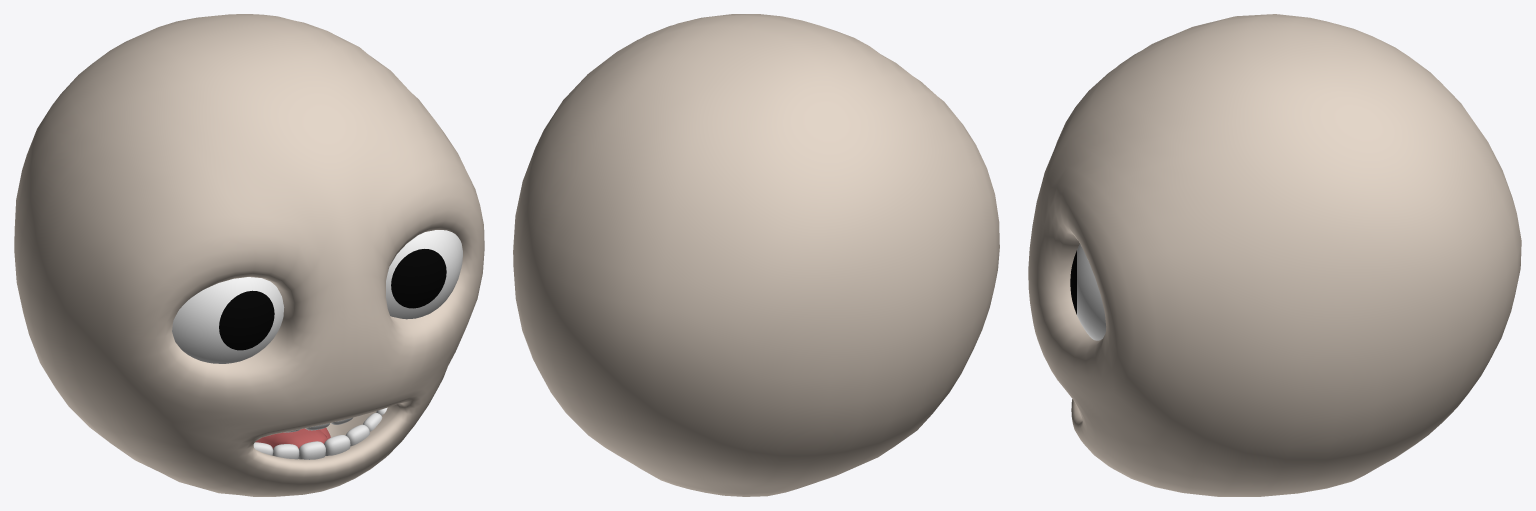
Rendered from PlayerAvatar.fbx.
3 renders of one model, left to right at view 1: azimuth 30°, elevation 25°; view 2: azimuth 150°, elevation 25°; view 3: azimuth 270°, elevation 25°, orthographic. The views are drawn at different scales.
Visible parts, largest first — view 1: MTI_littlefella, eyes, teeth; view 2: MTI_littlefella; view 3: MTI_littlefella, eyes.
Part boxes in pixels (bbox=[...]): MTI_littlefella: bbox=[14, 14, 484, 496]; eyes: bbox=[172, 230, 462, 363]; teeth: bbox=[253, 407, 387, 459]; MTI_littlefella: bbox=[513, 14, 999, 496]; MTI_littlefella: bbox=[1028, 14, 1521, 496]; eyes: bbox=[1070, 244, 1106, 340].
Size of the model in its own units: 49.06 by 49.11 by 50.92.
